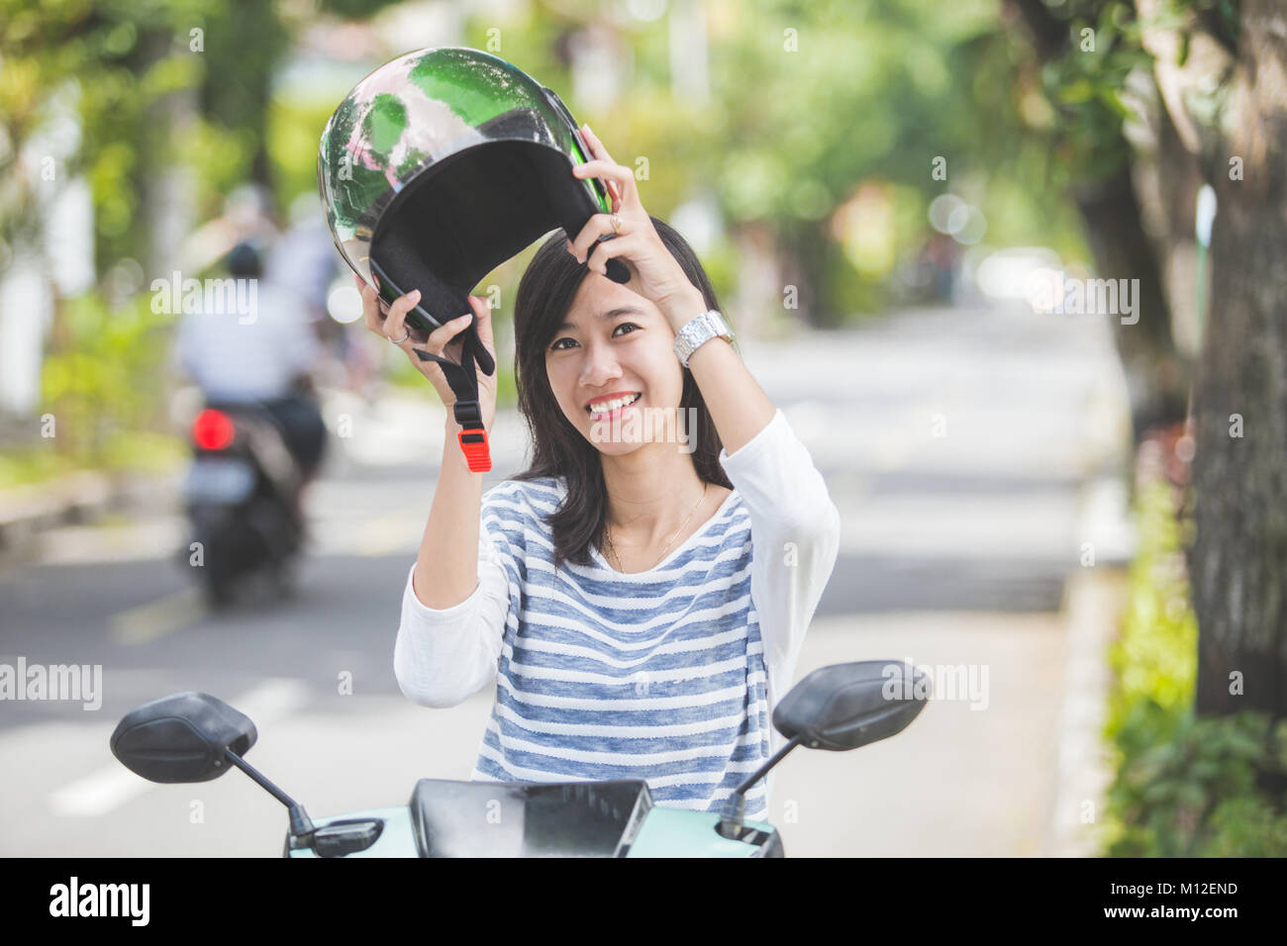helmets: (224, 28, 660, 384)
